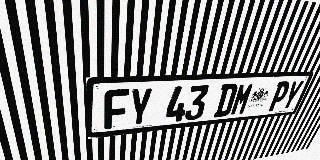3: (184, 85, 210, 121)
4: (165, 86, 190, 123)
D: (213, 83, 239, 118)
F: (104, 89, 129, 130)
M: (229, 83, 255, 116)
P: (266, 81, 292, 112)
Y: (128, 88, 153, 127), (280, 80, 305, 110)
